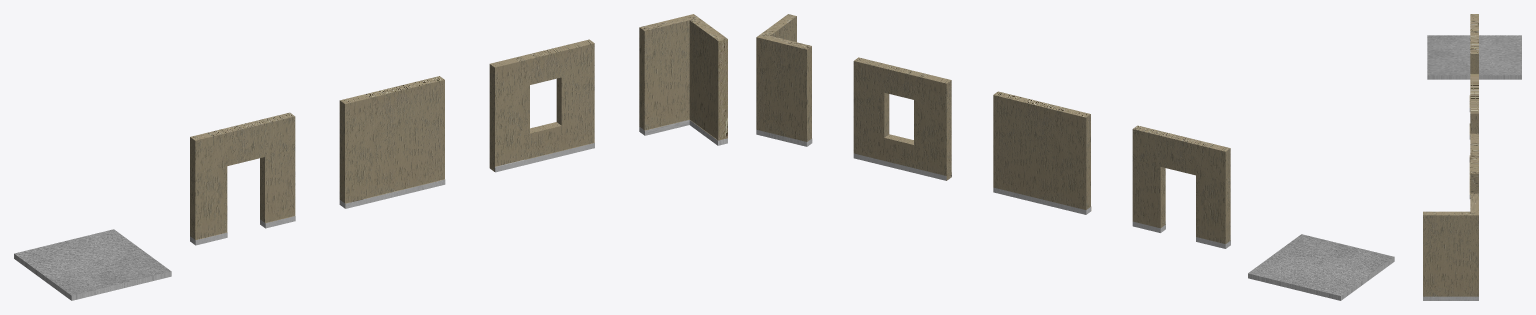
Rendered from BackupExperimentStructures.glb.
3 views of the same model, side by side, from view 1: azimuth 30°, elevation 25°; view 2: azimuth 150°, elevation 25°; view 3: azimuth 270°, elevation 25° (orthographic). The views are drawn at different scales.
Visible parts, largest first — view 1: Wall, WallWindow, CornerWall, Doorway, Floor; view 2: Wall, WallWindow, Doorway, CornerWall, Floor; view 3: CornerWall, Floor, Wall, Doorway, WallWindow.
Boxes of the visible parts, box(x1,y1,x2,y2) form: Wall: box(339, 76, 445, 208); WallWindow: box(489, 39, 594, 172); CornerWall: box(639, 14, 727, 145); Doorway: box(190, 112, 295, 245); Floor: box(14, 229, 171, 300); Wall: box(993, 91, 1091, 214); WallWindow: box(853, 57, 951, 180); Doorway: box(1132, 125, 1230, 248); CornerWall: box(756, 14, 812, 146); Floor: box(1248, 234, 1394, 300); CornerWall: box(1423, 193, 1478, 300); Floor: box(1427, 35, 1521, 79); Wall: box(1469, 74, 1478, 198); Doorway: box(1469, 14, 1478, 139); WallWindow: box(1470, 133, 1478, 193).
Size of the model in its own units: 13.09 by 2 by 2.09.
Materials: 3 (3 with a texture image).
